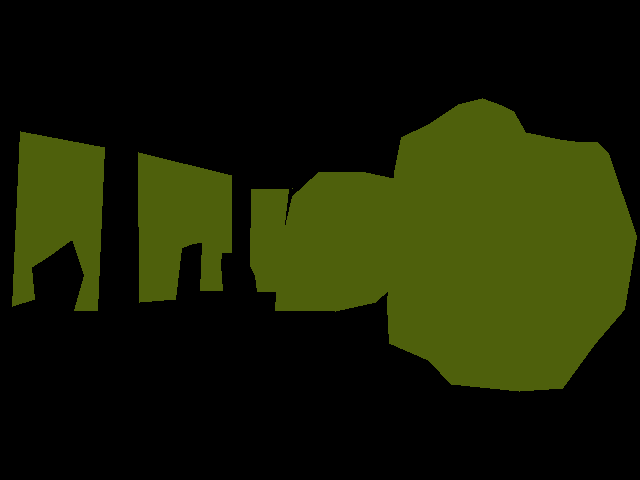Train: (387, 98, 637, 392), (12, 131, 292, 311), (275, 172, 393, 312)
